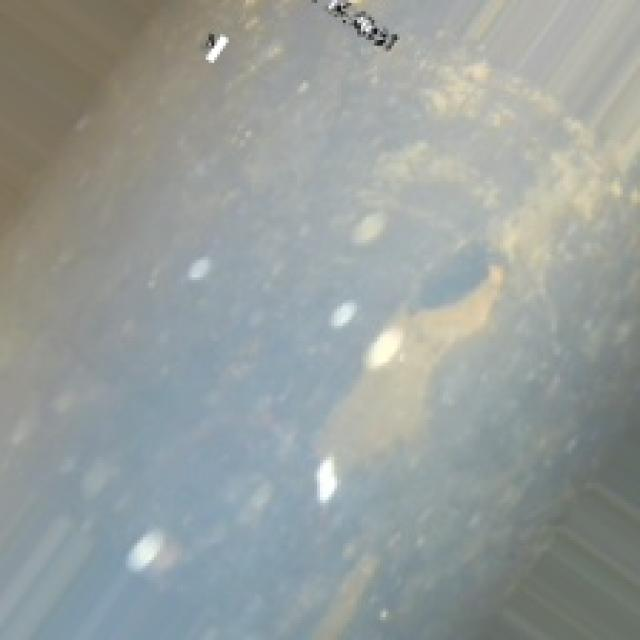pipe_surface_damage: (357, 217, 520, 443)
